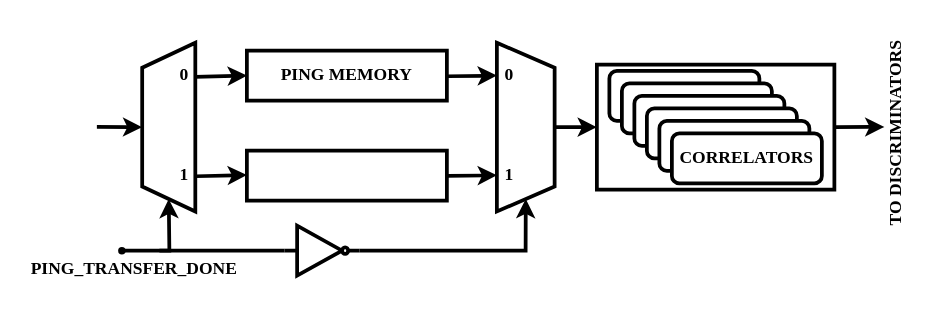
Some shapes in this 936 by 310 pixel diagram are drawn without their labels. The shapes that lost their labels are listed below. From the top down, each one's box as (x1, y1, x2, y2) in pixels, then its label:
(140, 40, 197, 213): INPUT DATA STREAM
(244, 148, 448, 202): PONG MEMORY
